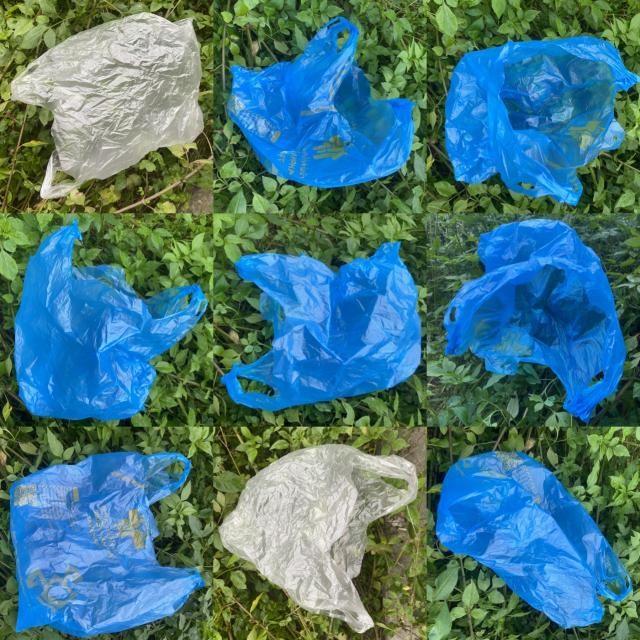Single-layer Plastic: (15, 221, 206, 420), (219, 444, 418, 632), (444, 219, 625, 422), (10, 452, 204, 638), (11, 12, 204, 198), (436, 451, 631, 628), (221, 242, 421, 411), (445, 36, 640, 204), (226, 18, 414, 187)
